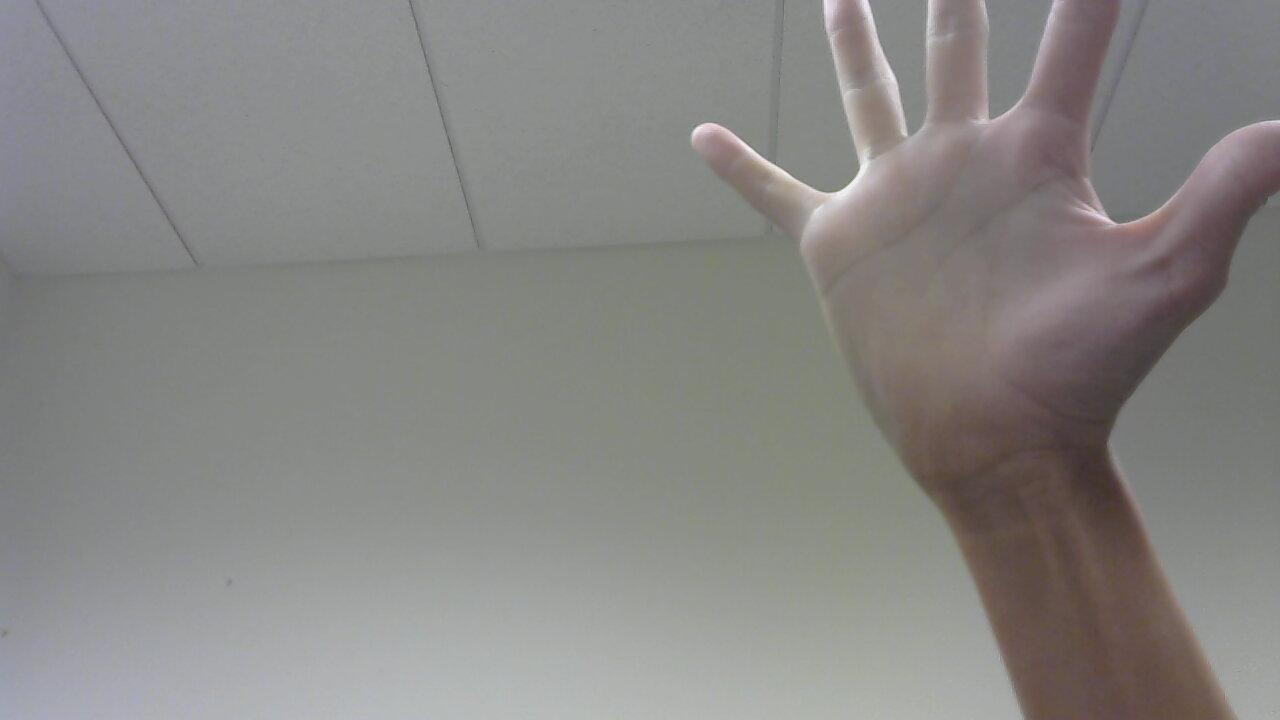hands: (698, 0, 1273, 474)
